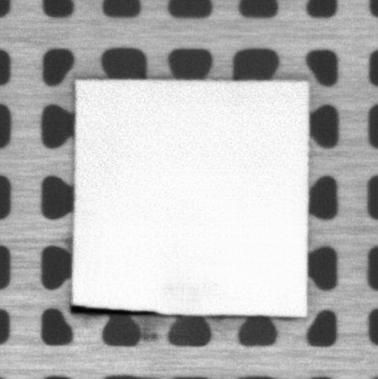DIE_BROKEN: (69, 304, 162, 317)
